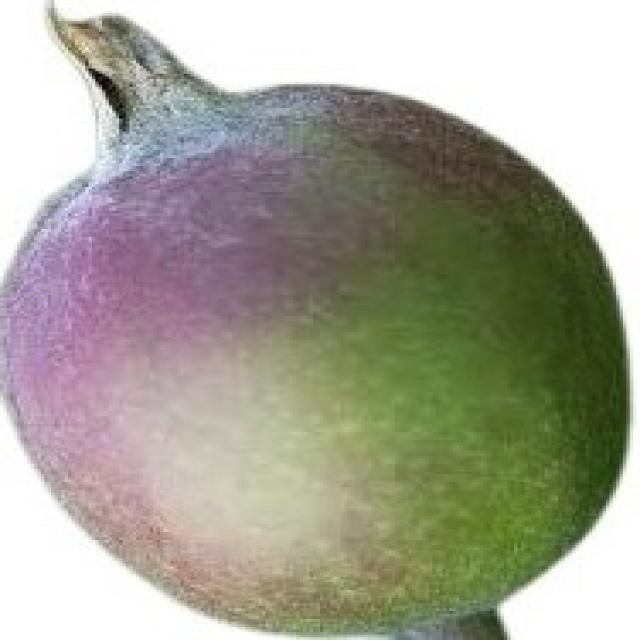20-_ripeness: (0, 18, 640, 618)
